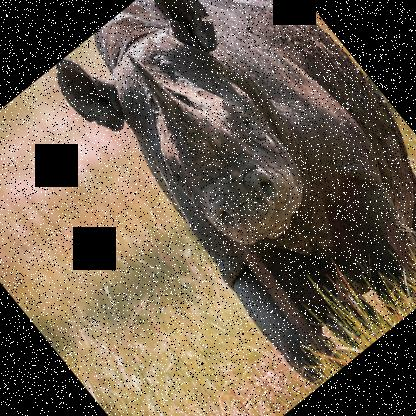Diceros bicornis: (42, 0, 415, 397)
